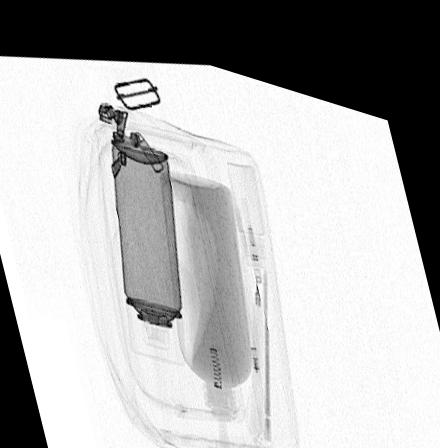Sprayer: (109, 129, 189, 356)
